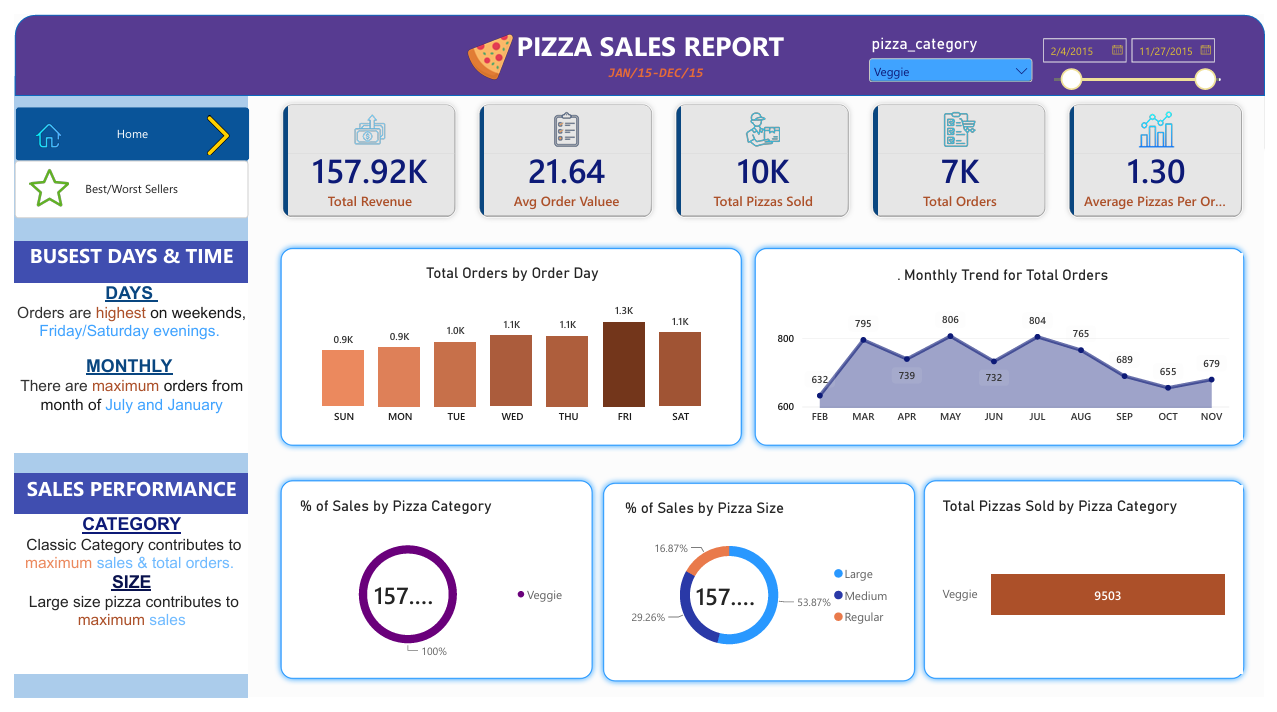

Layout of this report page (visuals, bound fields, positions):
{"tool":"powerbi","page":{"name":"Home","canvas":[1500,820],"ordinal":0},"visuals":[{"type":"shape","box":[0,73.8,279.9,746.5],"z":0},{"type":"cardVisual","fields":{"Data":["pizza_sales.Total Revenue","pizza_sales.Avg Order Valuee","pizza_sales.Total Pizzas Sold","pizza_sales.Total Orders","pizza_sales.Average Pizzas Per Order"]},"box":[310.6,97.5,1172.6,156],"z":1000},{"type":"shape","box":[0,0,1499.9,97.5],"z":2000},{"type":"textbox","box":[41.8,13.9,1441.4,46],"z":3000},{"type":"textbox","box":[597.5,59.9,344,27.9],"z":4000},{"type":"image","box":[523.6,22.3,93.3,57.1],"z":5000},{"type":"shape","box":[310.6,271.6,569.6,253.5],"z":6000},{"type":"columnChart","title":"Total Orders by Order Day","fields":{"Category":["pizza_sales.Order Day"],"Y":["pizza_sales.Total Orders"]},"box":[325.9,285.5,541.7,225.6],"z":7000},{"type":"shape","box":[880.2,271.6,603,253.5],"z":8000},{"type":"areaChart","title":". Monthly Trend for Total Orders","fields":{"Category":["pizza_sales.Order Month"],"Y":["pizza_sales.Total Orders"]},"box":[898.3,286.9,575.2,224.2],"z":9000},{"type":"shape","box":[310.6,551.5,390,253.5],"z":10000},{"type":"shape","box":[1083.5,551.5,399.7,253.5],"z":11000},{"type":"shape","box":[697.7,554.3,390,253.5],"z":12000},{"type":"donutChart","title":"% of Sales by Pizza Category","fields":{"Category":["pizza_sales.pizza_category"],"Y":["pizza_sales.Total Revenue"]},"box":[325.9,565.4,356.5,225.6],"z":13000},{"type":"donutChart","title":"% of Sales by Pizza Size","fields":{"Category":["pizza_sales.pizza_size"],"Y":["pizza_sales.Total Revenue"]},"box":[715.8,566.8,356.5,224.2],"z":14000},{"type":"funnel","title":"Total Pizzas Sold by Pizza Category","fields":{"Category":["pizza_sales.pizza_category"],"Y":["pizza_sales.Total Pizzas Sold"]},"box":[1097.4,565.4,376,225.6],"z":15000},{"type":"textbox","box":[0,271.6,279.9,50.1],"z":16000},{"type":"textbox","box":[0,321.7,279.9,203.3],"z":17000},{"type":"textbox","box":[0,551.5,279.9,48.7],"z":18000},{"type":"textbox","box":[0,600.2,279.9,190.8],"z":19000},{"type":"slicer","fields":{"Values":["pizza_sales.pizza_category"]},"box":[1020,22.9,205.7,57.1],"z":20000},{"type":"slicer","fields":{"Values":["pizza_sales.order_date"]},"box":[1225.7,22.9,237.1,74.3],"z":21000},{"type":"pageNavigator","box":[1.4,111.4,279.9,64.1],"z":22000},{"type":"pageNavigator","box":[0,175.5,279.9,68.2],"z":23000},{"type":"image","box":[140.7,121.2,206.1,47.4],"z":24000},{"type":"image","box":[26.5,129.5,30,30],"z":25000},{"type":"image","box":[13.9,183.8,54.3,47.4],"z":25001}]}

Visuals, with their boxes in screenshot pixels (x1, y1, x2, y2), scaled from the page's 1500x820 canvas onto the 1277x712 screenshot:
shape: rect(0, 64, 238, 711)
cardVisual - pizza_sales.Total Revenue x pizza_sales.Avg Order Valuee: rect(264, 85, 1263, 220)
shape: rect(0, 0, 1276, 85)
textbox: rect(36, 12, 1263, 52)
textbox: rect(509, 52, 802, 76)
image: rect(446, 19, 525, 69)
shape: rect(264, 236, 749, 456)
"Total Orders by Order Day" columnChart: rect(277, 248, 739, 444)
shape: rect(749, 236, 1263, 456)
". Monthly Trend for Total Orders" areaChart: rect(765, 249, 1254, 444)
shape: rect(264, 479, 596, 699)
shape: rect(922, 479, 1263, 699)
shape: rect(594, 481, 926, 701)
"% of Sales by Pizza Category" donutChart: rect(277, 491, 581, 687)
"% of Sales by Pizza Size" donutChart: rect(609, 492, 913, 687)
"Total Pizzas Sold by Pizza Category" funnel: rect(934, 491, 1254, 687)
textbox: rect(0, 236, 238, 279)
textbox: rect(0, 279, 238, 456)
textbox: rect(0, 479, 238, 521)
textbox: rect(0, 521, 238, 687)
slicer - pizza_sales.pizza_category: rect(868, 20, 1043, 69)
slicer - pizza_sales.order_date: rect(1043, 20, 1245, 84)
pageNavigator: rect(1, 97, 239, 152)
pageNavigator: rect(0, 152, 238, 212)
image: rect(120, 105, 295, 146)
image: rect(23, 112, 48, 138)
image: rect(12, 160, 58, 201)
